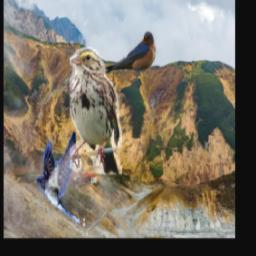Sparrow: (70, 47, 122, 174)
Swallow: (36, 129, 84, 229), (99, 32, 156, 76)
